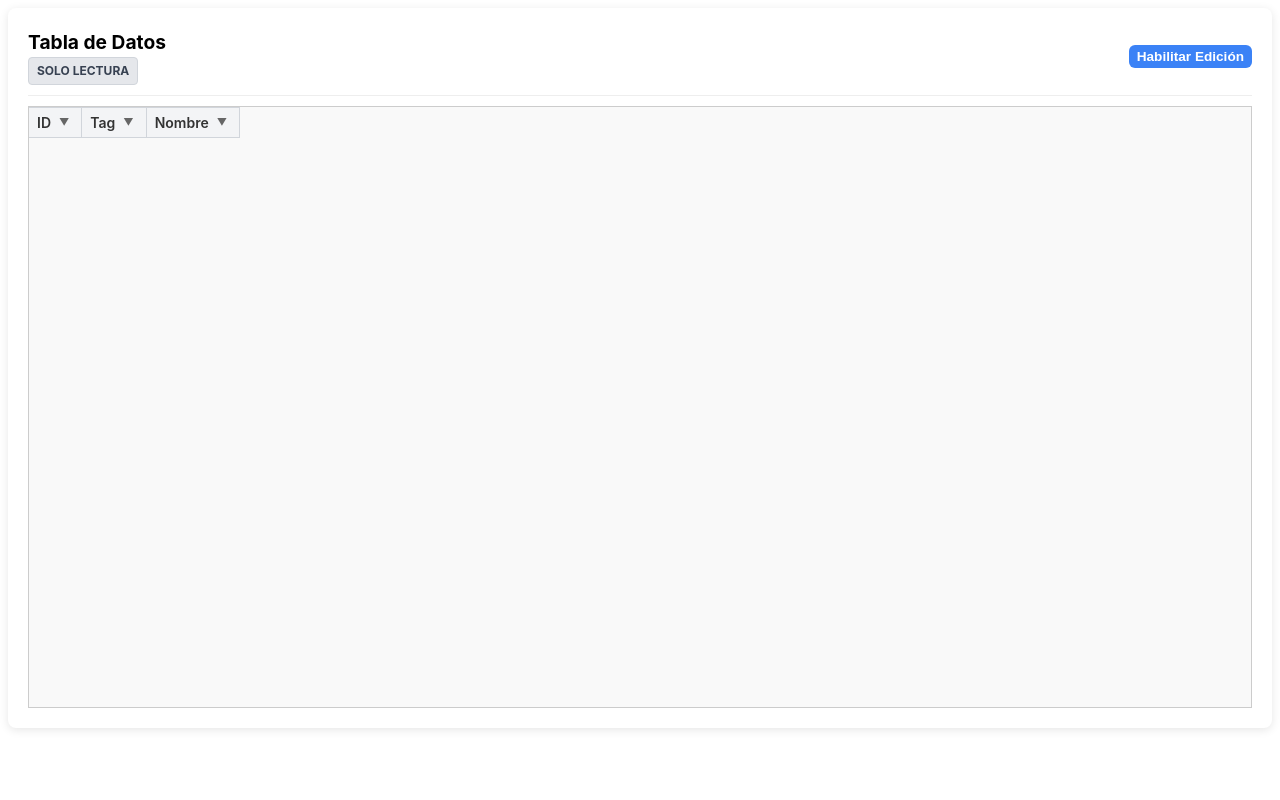
it: ExcelGrid: filtro en servidor (filterScope='all') › si el servidor falla, avisa y usa los valores de la página
Click the icon with class "filter-icon" next to "Tag": (129, 122) [123,116,134,128]
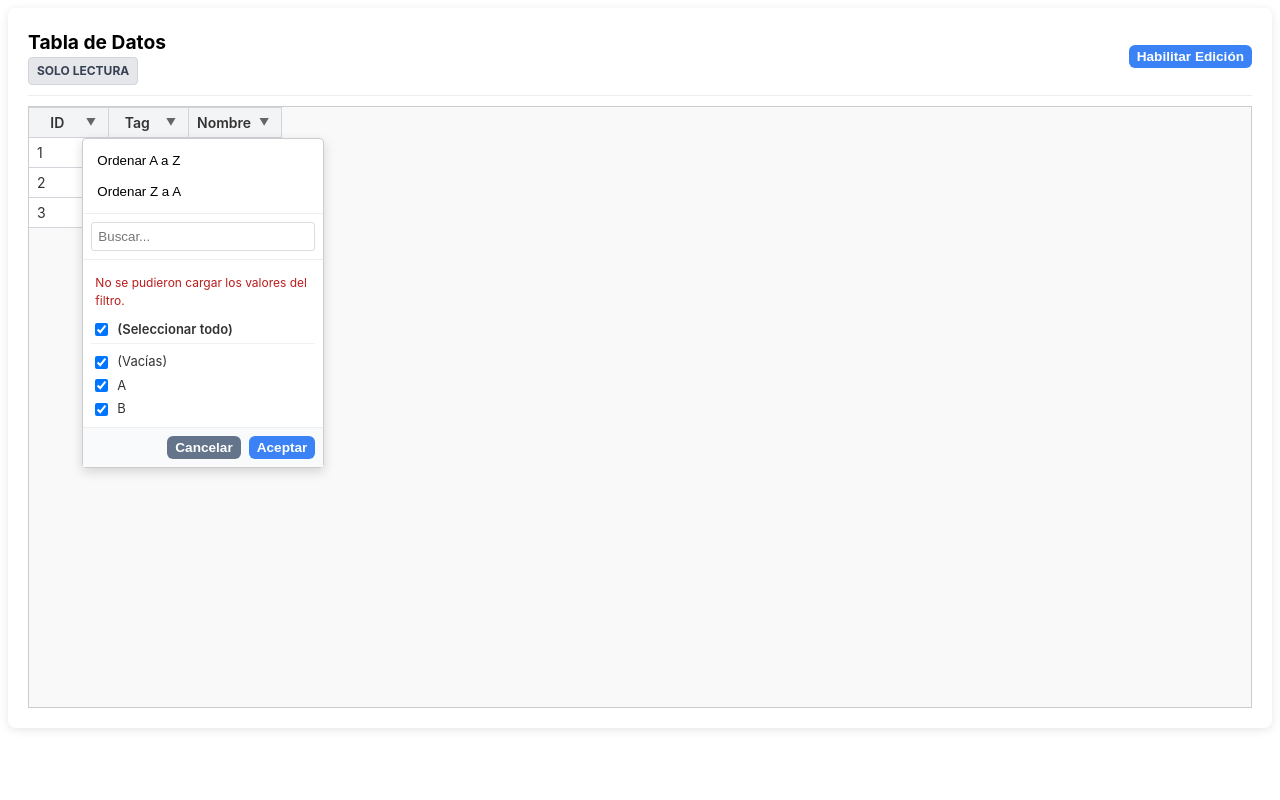
Check: the text "No se pudieron cargar los valores del filtro." is shown, box [91,268,315,316]
